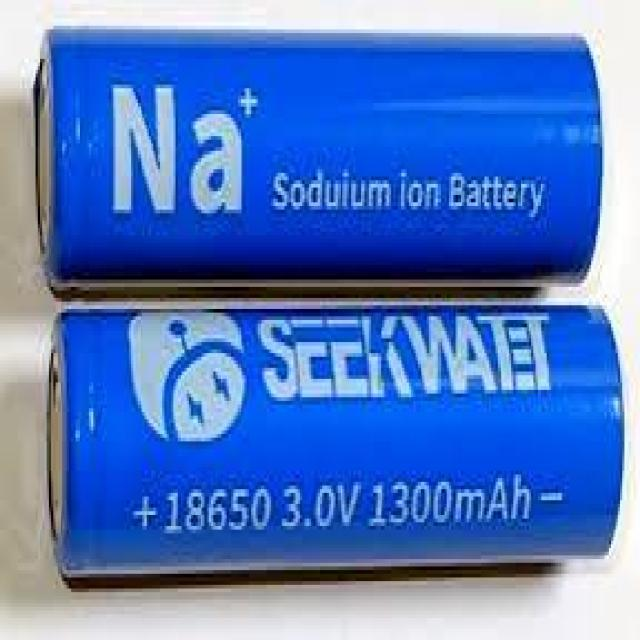Battery: (57, 314, 615, 572), (44, 31, 597, 291)
